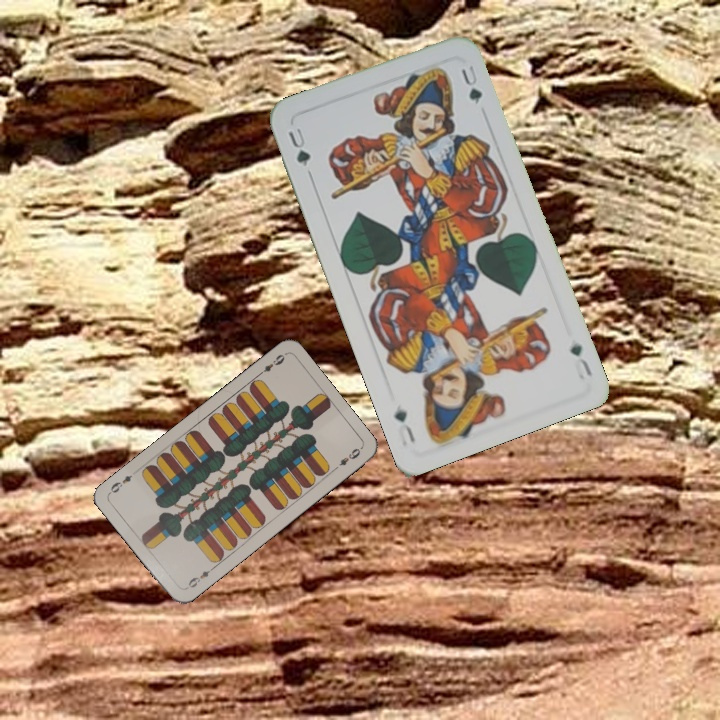E9: (182, 563, 217, 592), (253, 350, 287, 379)
GU: (284, 123, 313, 169), (566, 338, 595, 382)
